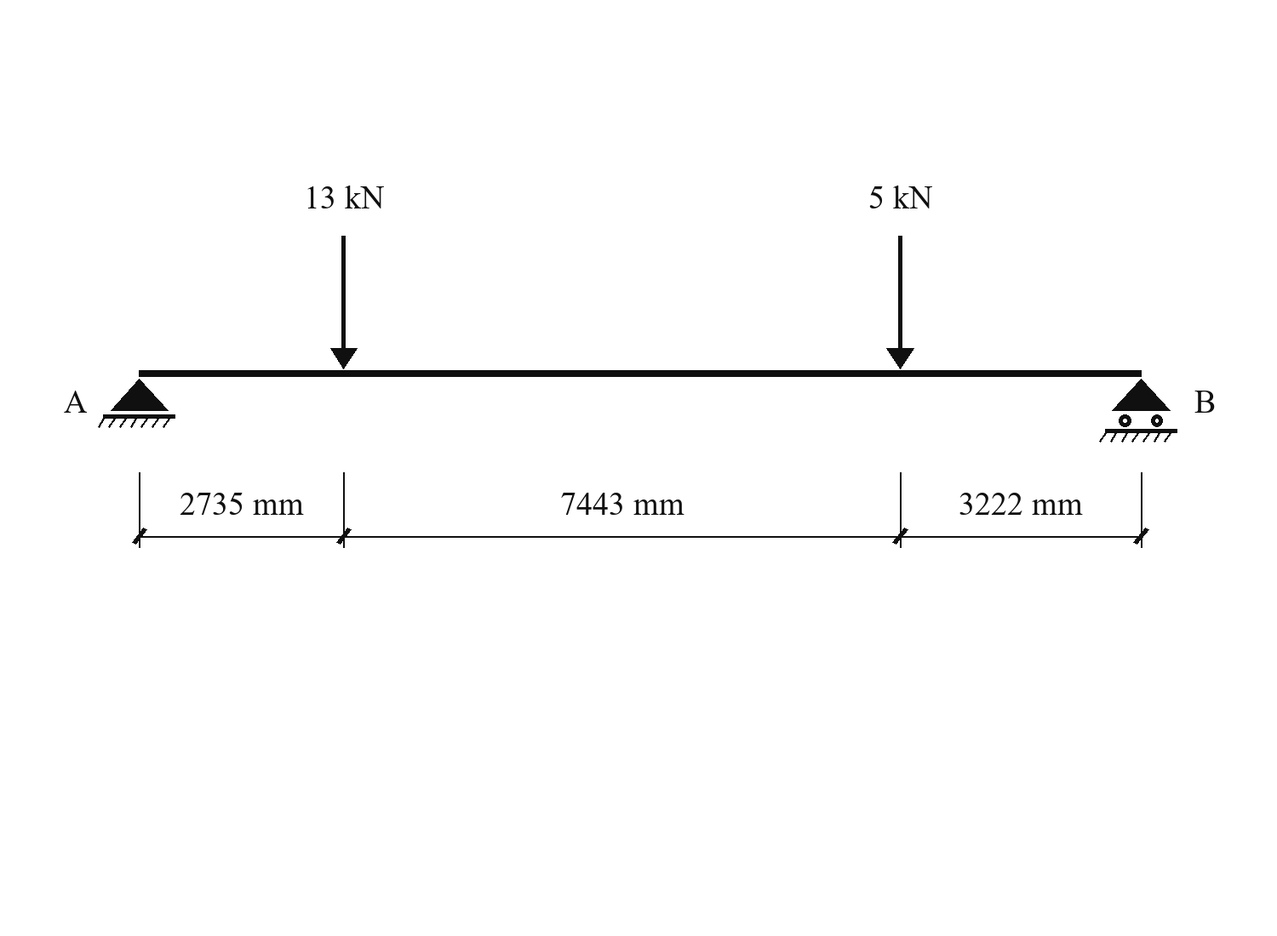pin_support: (98, 379, 175, 428)
point_load: (330, 236, 358, 369), (886, 236, 914, 369)
roller_support: (1099, 379, 1177, 442)
